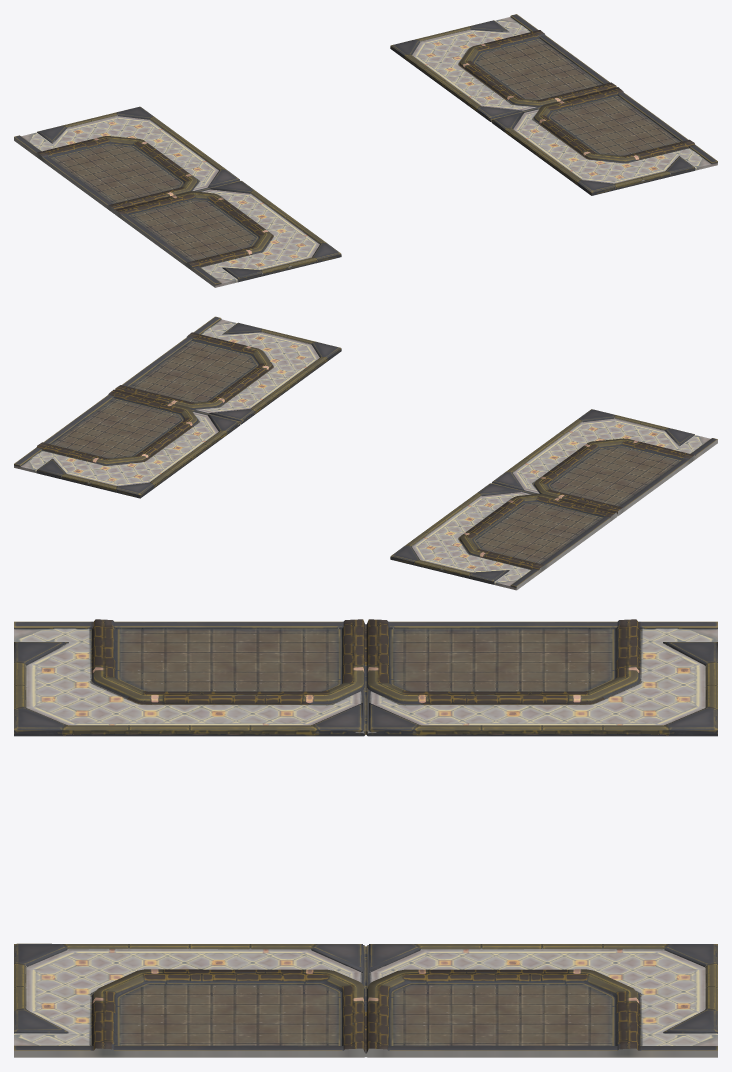
Rendered from CombinedMeshes_SM_BridgeTop_Big.fbx.
The picture shows the model from 3 angles, top to bottom: view 1: azimuth 30°, elevation 25°; view 2: azimuth 150°, elevation 25°; view 3: azimuth 270°, elevation 25°; orthographic projection. The views are drawn at different scales.
Parts seen in each view (by area): view 1: CombinedMeshes_SM_BridgeTop_Big__1_; view 2: CombinedMeshes_SM_BridgeTop_Big__1_; view 3: CombinedMeshes_SM_BridgeTop_Big__1_.
Boxes of the visible parts, <box> form: CombinedMeshes_SM_BridgeTop_Big__1_: <box>14,14,717,287</box>; CombinedMeshes_SM_BridgeTop_Big__1_: <box>14,316,717,590</box>; CombinedMeshes_SM_BridgeTop_Big__1_: <box>14,619,717,1057</box>.
Size of the model in its own units: 4112 by 41.45 by 2850.
